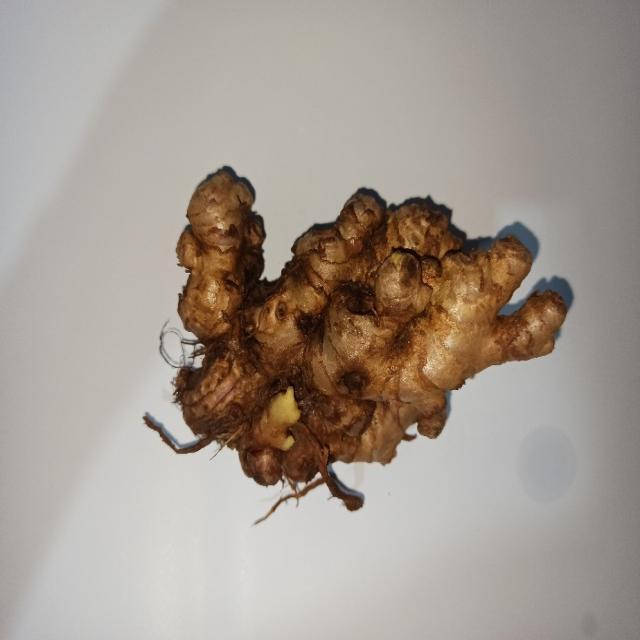ginger: (176, 166, 572, 479)
